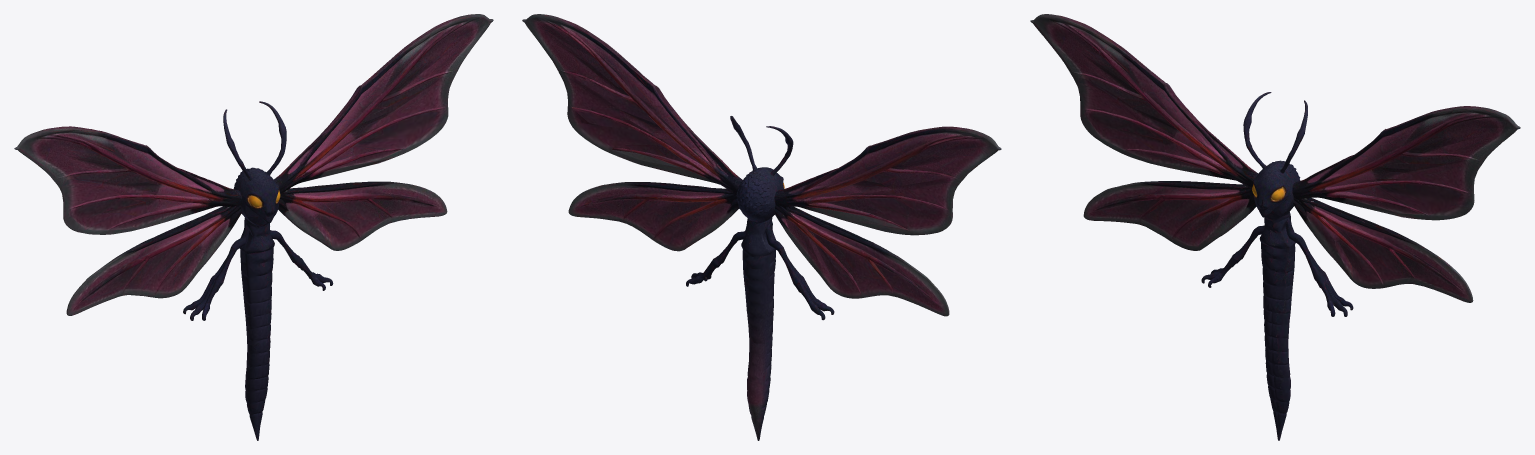
The model's file is zwing.glb.
The picture shows the model from 3 angles, left to right: view 1: azimuth 30°, elevation 25°; view 2: azimuth 150°, elevation 25°; view 3: azimuth 330°, elevation 25°; orthographic projection. The views are drawn at different scales.
Parts seen in each view (by area): view 1: mesh_0; view 2: mesh_0; view 3: mesh_0.
Boxes of the visible parts, x1,y1,x2,y2 form: mesh_0: (14, 14, 493, 440); mesh_0: (522, 14, 1001, 440); mesh_0: (1030, 14, 1520, 440).
Bounding box in the file's own units: 1.9 × 1.42 × 0.2026.
Materials: 1 (1 with a texture image).
